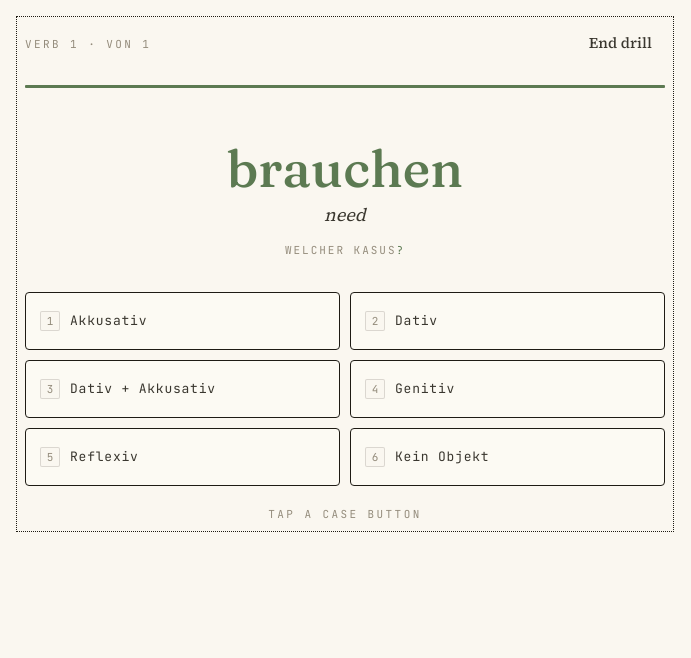
Scenario: CaseGovernmentRunner — smoke tests › reveals feedback after clicking a case button
This screenshot has width=691, height=658.
Click the button with class "cg-choice" showing "1 Akkusativ": (109, 321) x1=25 y1=292 x2=340 y2=350
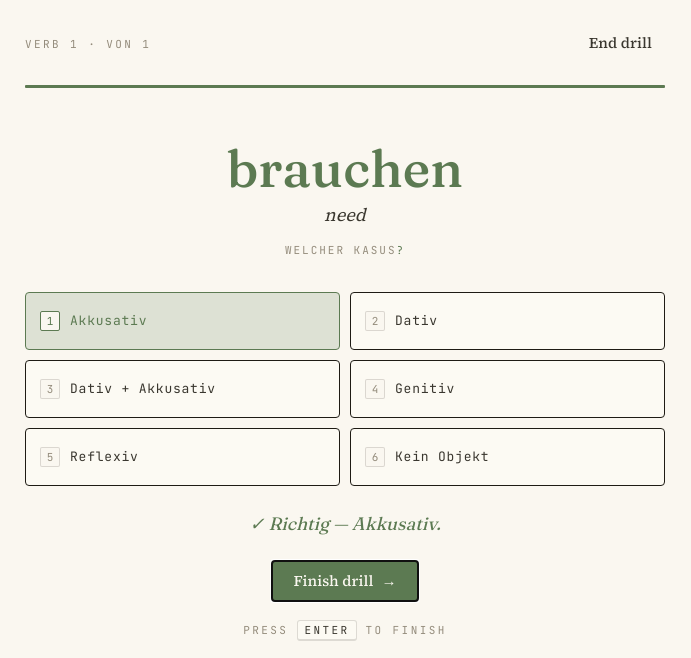
Expected: the element with class "cg-feedback" is shown, x1=249 y1=512 x2=441 y2=602
